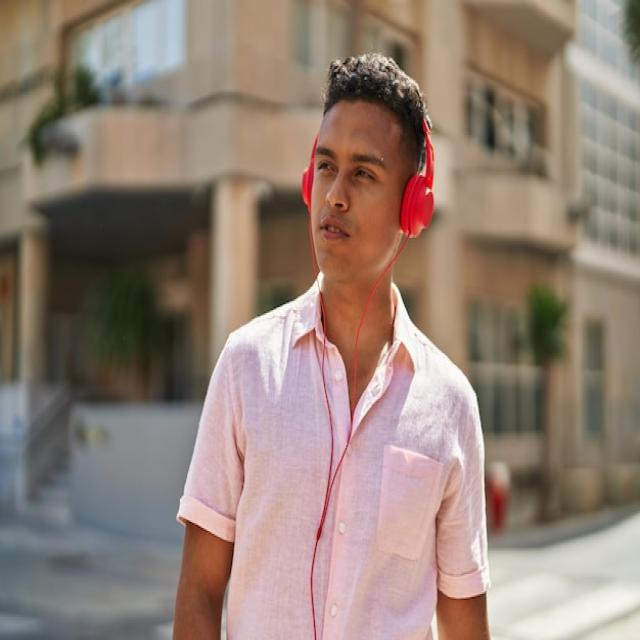Headphone: (303, 87, 435, 240)
